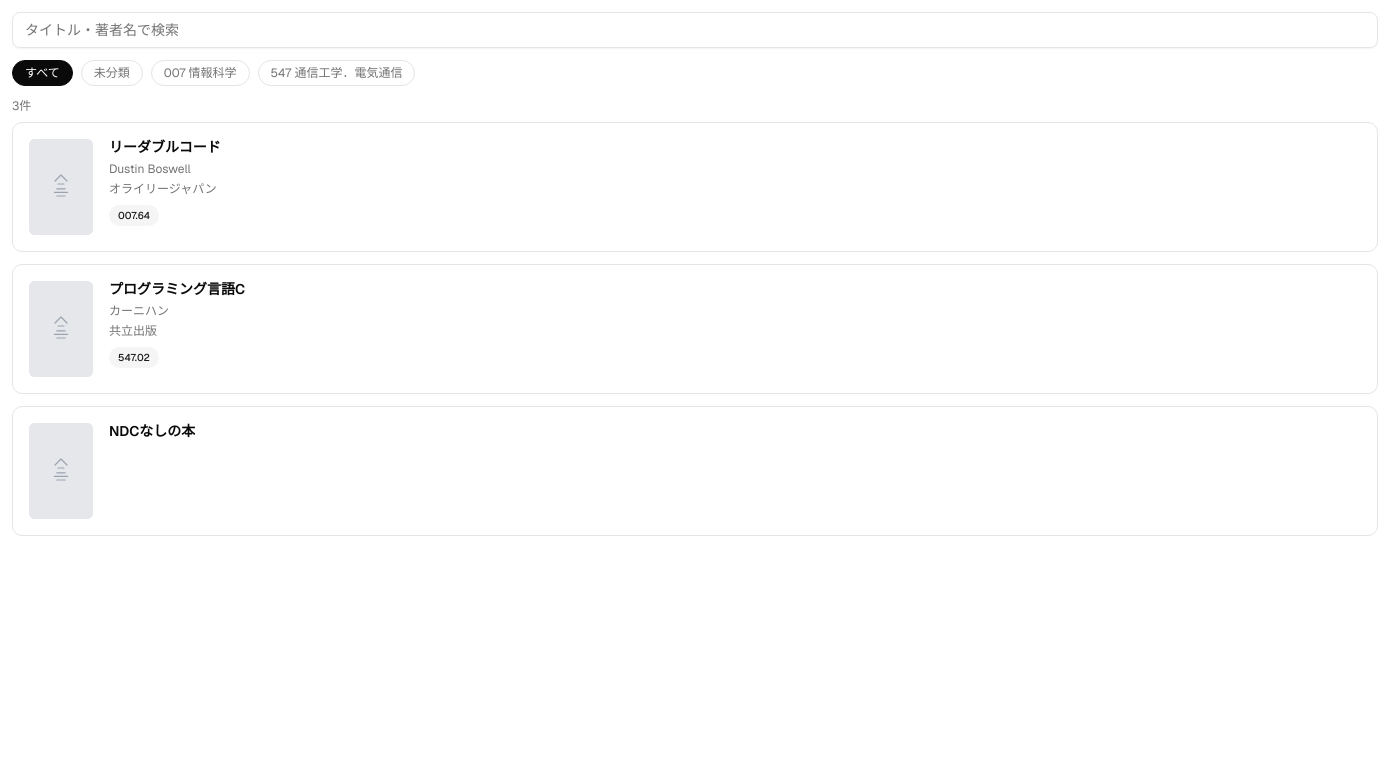
BookList › ndc=nullの本がある場合「未分類」フィルタが表示され選択するとndc=nullの本だけ表示される
Click the button "未分類". click: (112, 73)
box: [81,60,143,86]
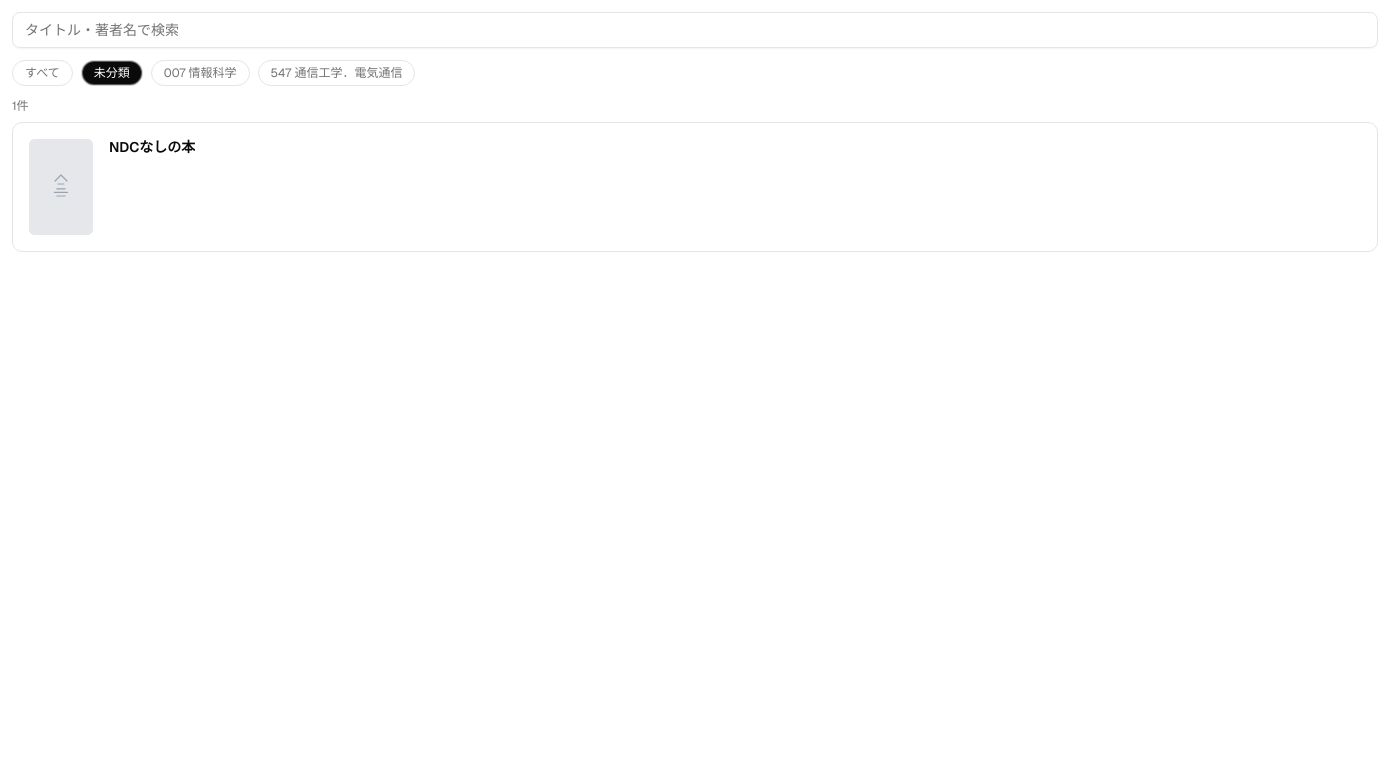
Expected: the text "NDCなしの本" is shown, [109,139,195,156]
Expected: the text "リーダブルコード" is gone
